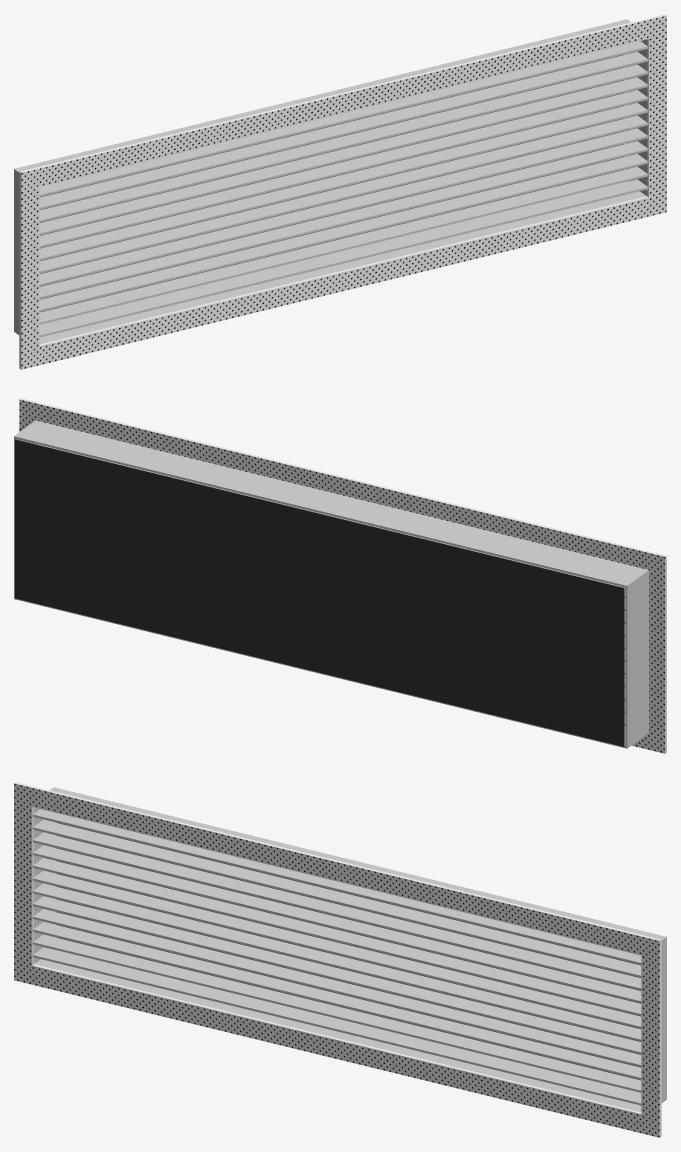
File: ecoclima-ebls-600x150.glb
3 views of the same model, one above another, from view 1: azimuth 30°, elevation 25°; view 2: azimuth 150°, elevation 25°; view 3: azimuth 330°, elevation 25° (orthographic).
Parts seen in each view (by area): view 1: Profile_cornice.004, Profile_cornice.005, Profile_barra.011, Profile_barra.010, Profile_barra.014, Profile_barra.019, Profile_barra.012, Profile_barra.013, Profile_barra.020, Profile_barra.017, Profile_barra.015, Profile_barra.016 (+9 smaller); view 2: Interno.001, Profile_ritorno.004, Profile_cornice.004, Profile_ritorno.006, Profile_cornice.006, Profile_ritorno.005, Profile_barra.020; view 3: Profile_cornice.004, Profile_cornice.005, Profile_barra.011, Profile_barra.010, Profile_barra.014, Profile_barra.019, Profile_barra.012, Profile_barra.013, Profile_barra.020, Profile_barra.017, Profile_barra.015, Profile_barra.016 (+9 smaller).
Part boxes in pixels (x1,y1,x2,y2): Profile_cornice.004: [19, 14, 666, 191]; Profile_cornice.005: [19, 193, 666, 369]; Profile_barra.011: [39, 166, 647, 324]; Profile_barra.010: [39, 179, 647, 337]; Profile_barra.014: [39, 128, 647, 286]; Profile_barra.019: [39, 64, 647, 222]; Profile_barra.012: [39, 154, 647, 311]; Profile_barra.013: [39, 141, 647, 298]; Profile_barra.020: [39, 51, 647, 209]; Profile_barra.017: [39, 90, 647, 247]; Profile_barra.015: [39, 115, 647, 273]; Profile_barra.016: [39, 102, 647, 260]; Interno.001: [15, 439, 624, 746]; Profile_ritorno.004: [14, 420, 648, 587]; Profile_cornice.004: [19, 398, 666, 575]; Profile_ritorno.006: [625, 572, 648, 746]; Profile_cornice.006: [649, 572, 666, 734]; Profile_ritorno.005: [14, 597, 648, 748]; Profile_barra.020: [37, 444, 625, 597]; Profile_cornice.004: [14, 782, 661, 959]; Profile_cornice.005: [14, 961, 661, 1137]; Profile_barra.011: [33, 934, 641, 1092]; Profile_barra.010: [33, 947, 641, 1105]; Profile_barra.014: [33, 896, 641, 1054]; Profile_barra.019: [33, 832, 641, 990]; Profile_barra.012: [33, 922, 641, 1079]; Profile_barra.013: [33, 909, 641, 1066]; Profile_barra.020: [33, 819, 641, 977]; Profile_barra.017: [33, 858, 641, 1015]; Profile_barra.015: [33, 883, 641, 1041]; Profile_barra.016: [33, 870, 641, 1028].
Size of the model in its own units: 0.635 by 0.185 by 0.042.
Materials: 3 (1 with a texture image).
